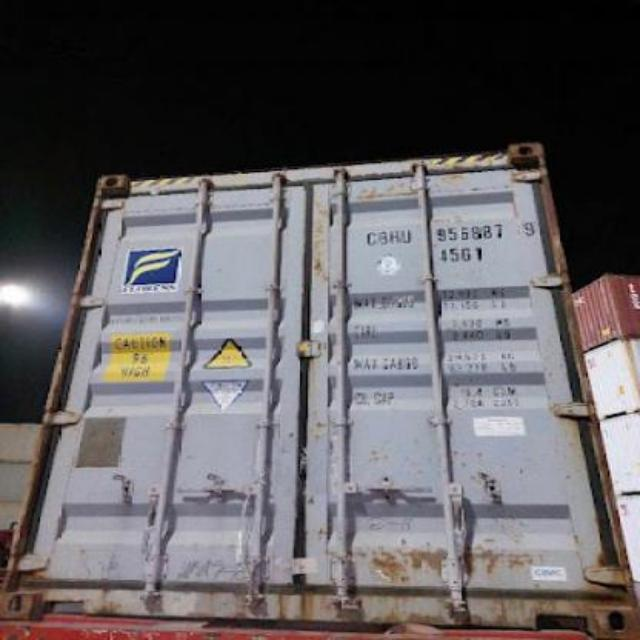5: (446, 211, 458, 241)
6: (458, 218, 470, 240)
7: (494, 210, 506, 238)
8: (482, 217, 494, 240), (472, 220, 482, 240)
9: (522, 216, 536, 237), (434, 222, 446, 242)
B: (376, 225, 388, 248)
C: (364, 222, 376, 248)
H: (386, 224, 398, 246)
U: (398, 224, 412, 246)
